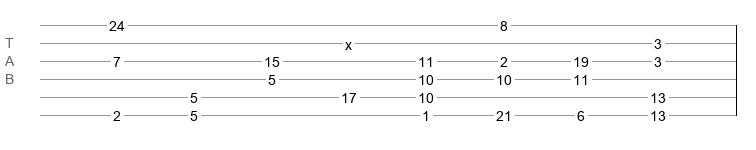1: (422, 108, 430, 118)
10: (418, 90, 434, 100), (418, 72, 434, 82), (496, 72, 512, 82)
11: (418, 54, 434, 64), (573, 72, 589, 82)
13: (650, 90, 666, 100), (650, 108, 666, 118)
15: (264, 54, 280, 64)
17: (341, 90, 357, 100)
19: (573, 54, 589, 64)
2: (113, 108, 121, 118), (500, 54, 508, 64)
21: (496, 108, 512, 118)
24: (109, 18, 125, 28)
3: (654, 36, 662, 46), (654, 54, 662, 64)
5: (190, 108, 198, 118), (190, 90, 198, 100), (268, 72, 276, 82)
6: (577, 108, 585, 118)
7: (113, 54, 121, 64)
8: (500, 18, 508, 28)
x: (345, 37, 352, 45)
